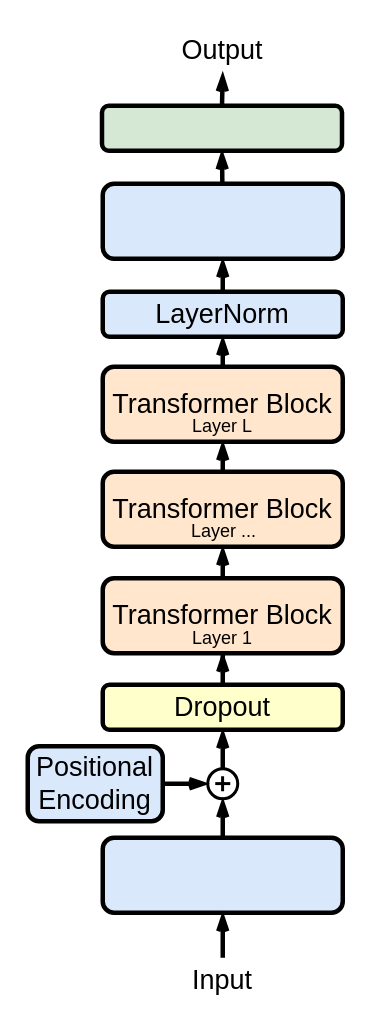
This 371x1028 diagram has some shape labels left out. Here are the shapes that lost their labels. From the top down, the box of each, then its label:
(99, 103, 344, 152): Softmax
(100, 181, 344, 260): Linear
(100, 835, 344, 914): Input Embedding
